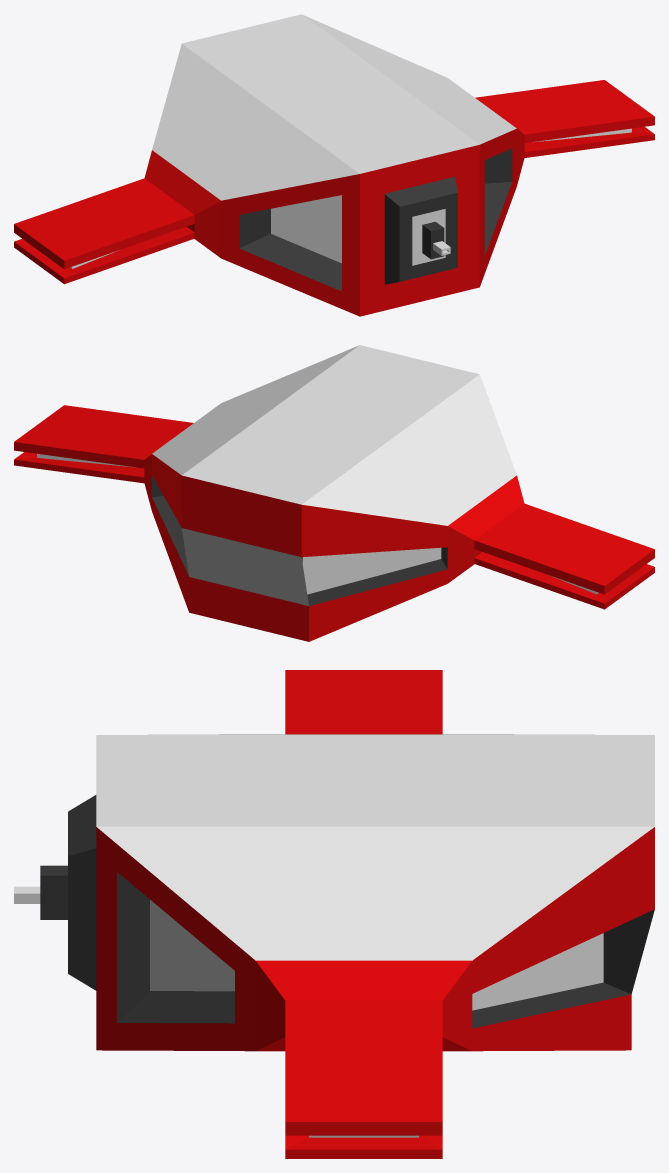
File: NaveMinionBoss.fbx
3 renders of one model, top to bottom at view 1: azimuth 30°, elevation 25°; view 2: azimuth 150°, elevation 25°; view 3: azimuth 270°, elevation 25°, orthographic. The views are drawn at different scales.
Parts seen in each view (by area): view 1: Cube; view 2: Cube; view 3: Cube.
Boxes of the visible parts, box(x1,y1,x2,y2) form: Cube: box(14, 14, 654, 316); Cube: box(14, 345, 654, 641); Cube: box(14, 670, 654, 1158).
Bounding box in the file's own units: 345 × 207 × 79.63.
